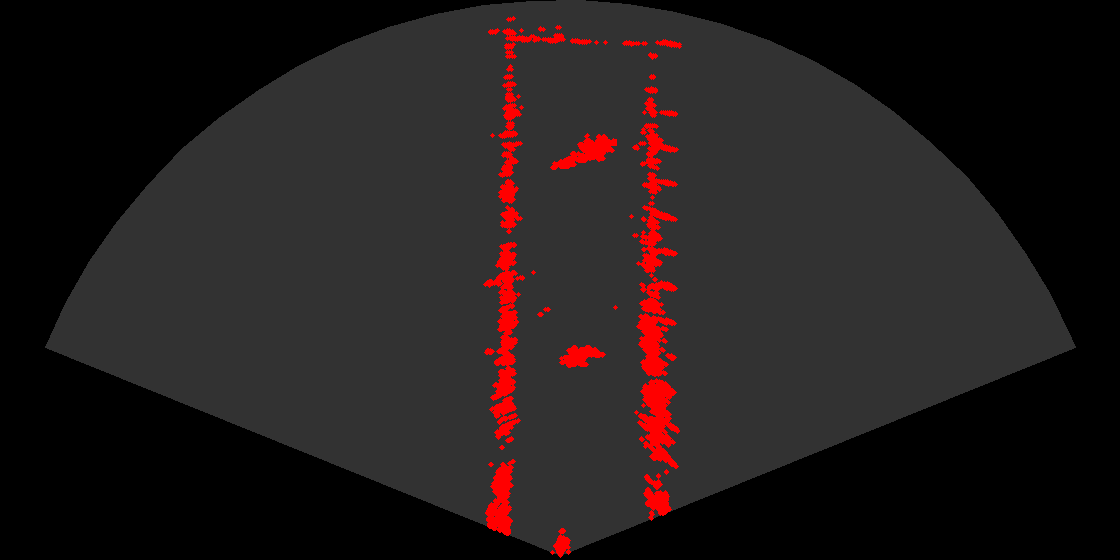AUV: (553, 343, 609, 375)
frogman: (549, 127, 617, 174)
